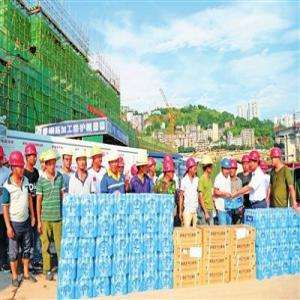blue: (222, 158, 232, 178)
red: (10, 152, 26, 179), (25, 145, 39, 169), (163, 160, 176, 183), (186, 158, 198, 179), (271, 148, 283, 168), (250, 151, 260, 171), (242, 154, 252, 174), (149, 157, 158, 176), (230, 159, 238, 178)
yellow: (74, 149, 88, 173), (91, 145, 105, 169), (136, 155, 150, 177), (45, 151, 58, 173), (63, 149, 75, 171), (108, 151, 120, 173), (203, 155, 214, 176)
